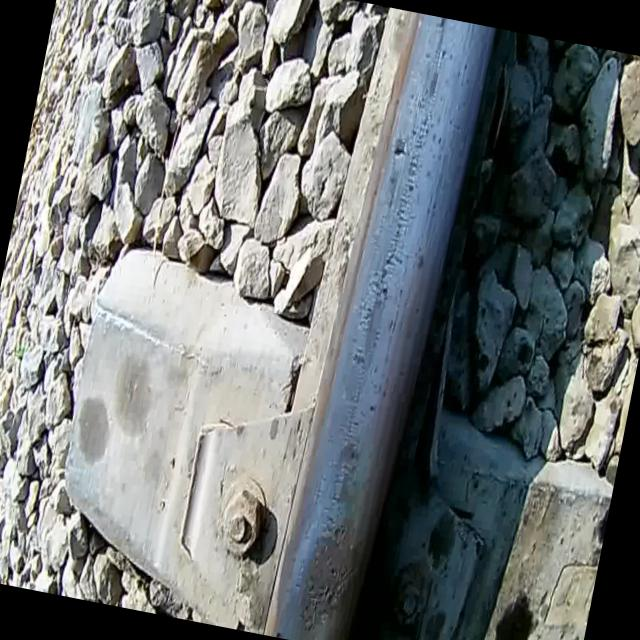Squats: (284, 507, 371, 640), (325, 433, 372, 516)
